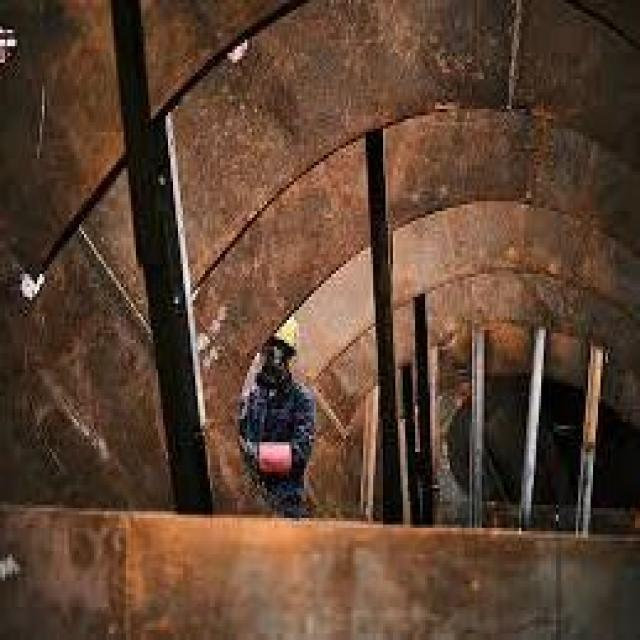safety_helmet: (269, 304, 311, 356)
